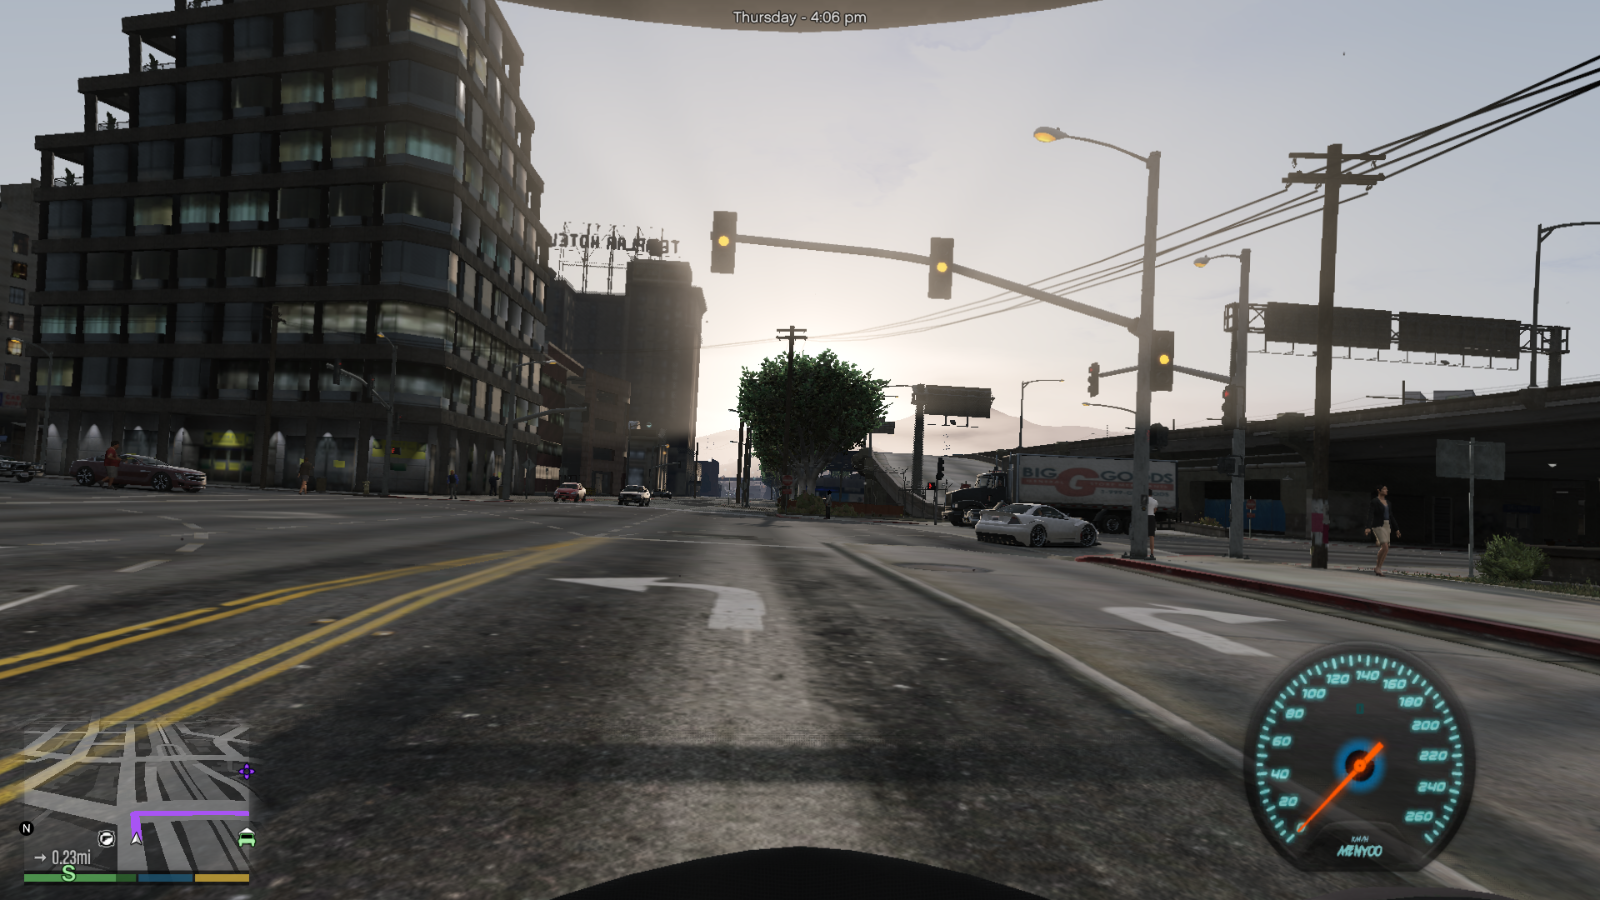yellow: (708, 205, 742, 276), (1148, 326, 1182, 397), (927, 230, 956, 298)
